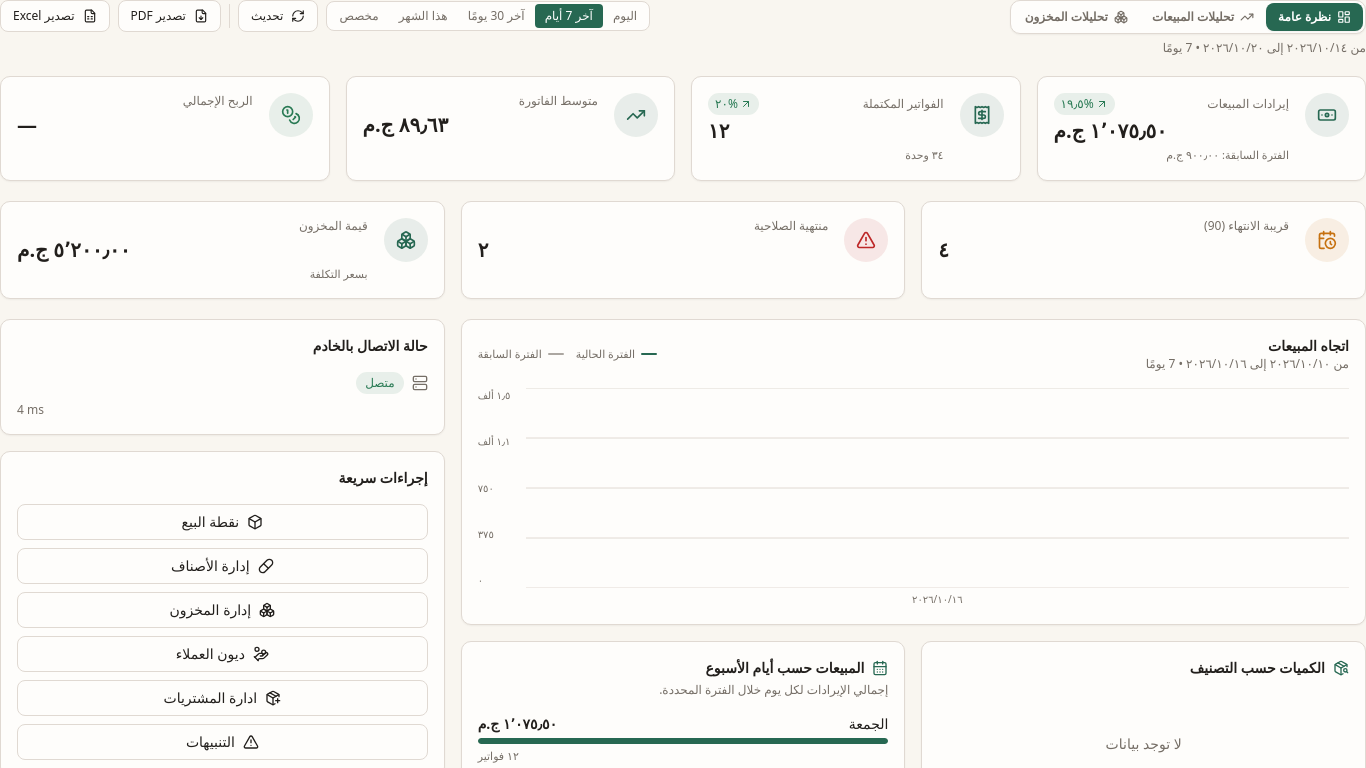
Scenario: DashboardPage › switches between the overview, sales and inventory views
expect the button "التنبيهات" is shown: met, box [17,724,428,760]
expect the heading "إجراءات سريعة" is shown: met, box [339,468,428,487]
Click the tab "تحليلات المبيعات" at (1203, 17), box [1140,3,1266,31]
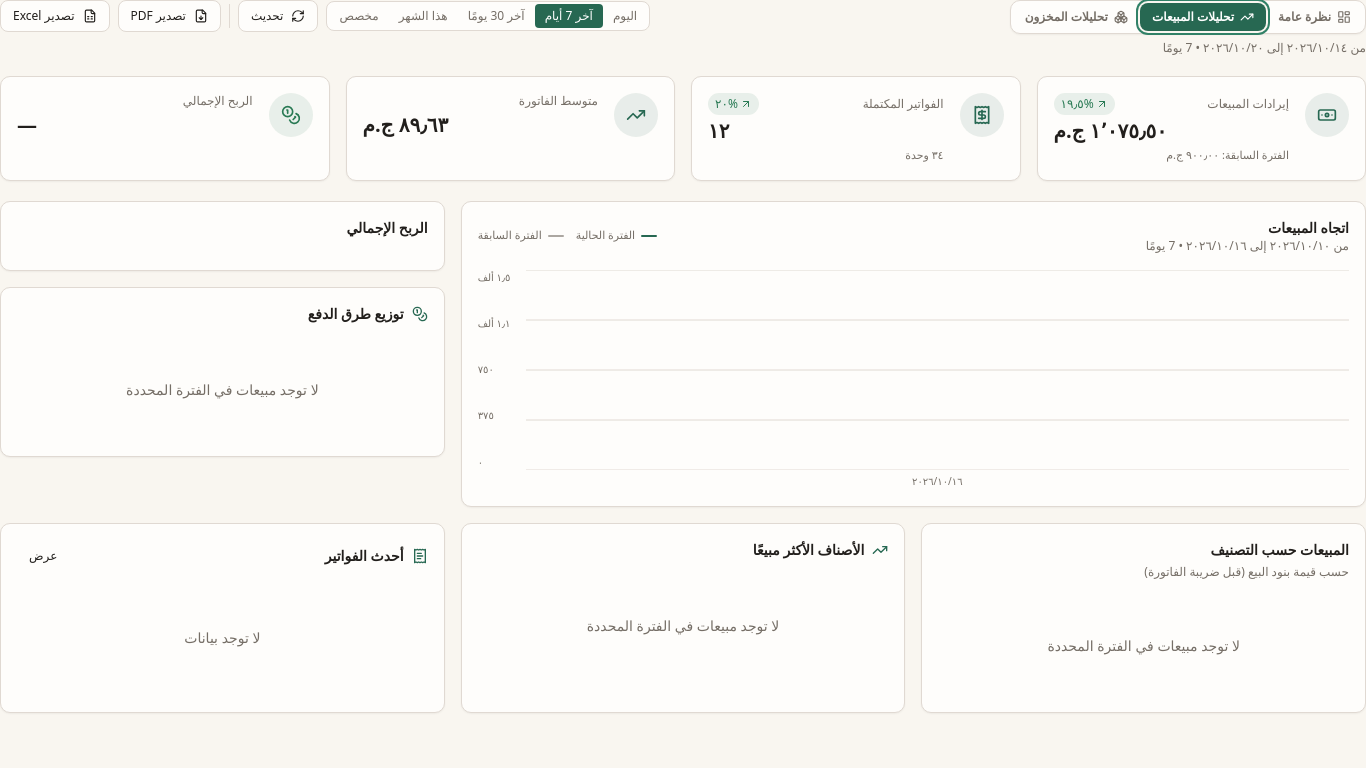
expect the heading "اتجاه المبيعات" is shown: met, box [1268,218,1349,236]
expect the heading "إجراءات سريعة" is gone: met
Click the tab "تحليلات المخزون" at (1076, 17), box [1013,3,1140,31]
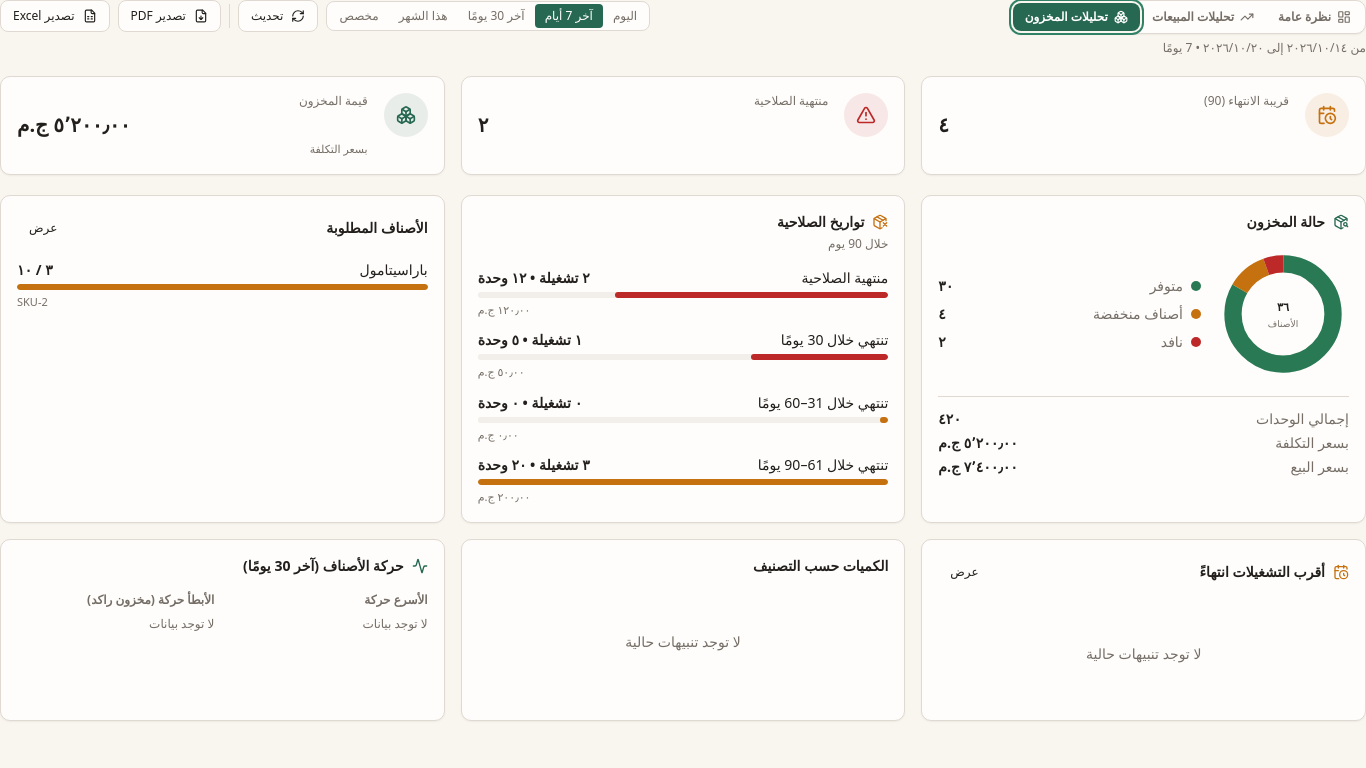
expect the heading "حالة المخزون" is shown: met, box [1247,212,1349,230]
expect the heading "الأصناف المطلوبة" is shown: met, box [326,218,428,238]
